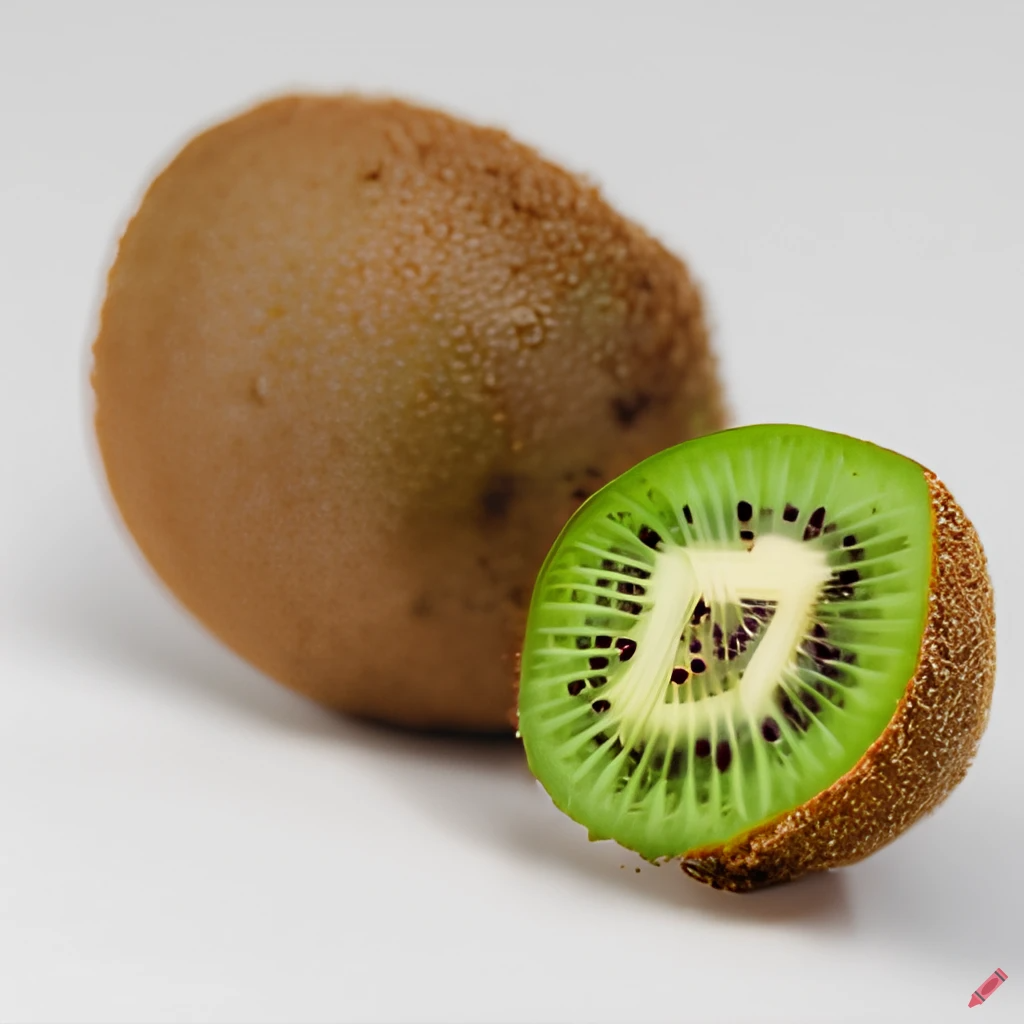Kiwi: (78, 98, 700, 712), (502, 416, 984, 894)
